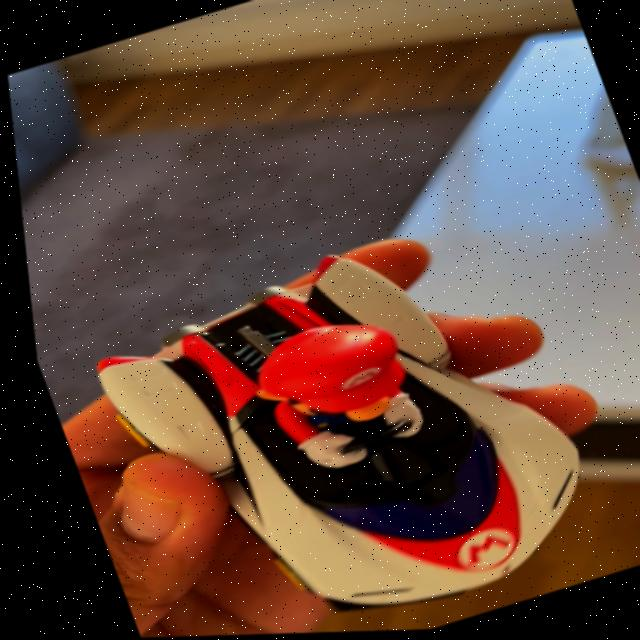mario: (51, 184, 640, 639)
